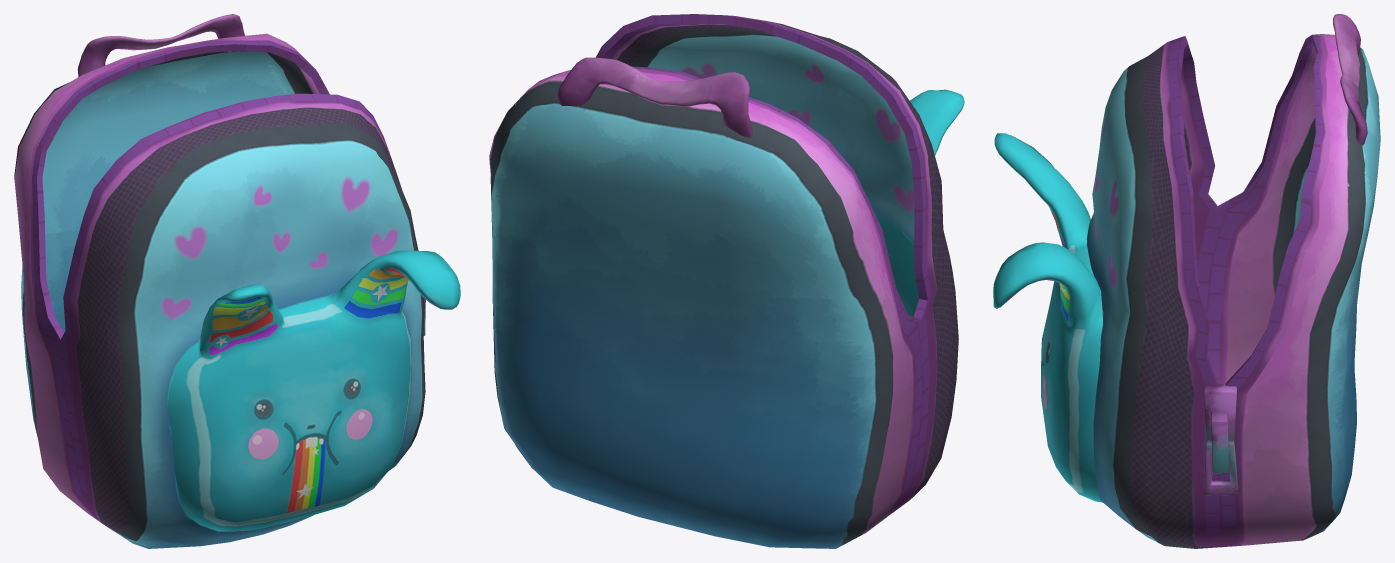
The model's file is open bag.FBX.
3 renders of one model, left to right at view 1: azimuth 30°, elevation 25°; view 2: azimuth 150°, elevation 25°; view 3: azimuth 270°, elevation 25°, orthographic. The views are drawn at different scales.
Visible parts, largest first — view 1: Open Bag; view 2: Open Bag; view 3: Open Bag.
Boxes of the visible parts, x1=… form: Open Bag: x1=14, y1=14, x2=460, y2=548; Open Bag: x1=489, y1=14, x2=964, y2=548; Open Bag: x1=993, y1=14, x2=1380, y2=548.
Size of the model in its own units: 0.2614 by 0.301 by 0.2309.
Materials: 1 (1 with a texture image).
